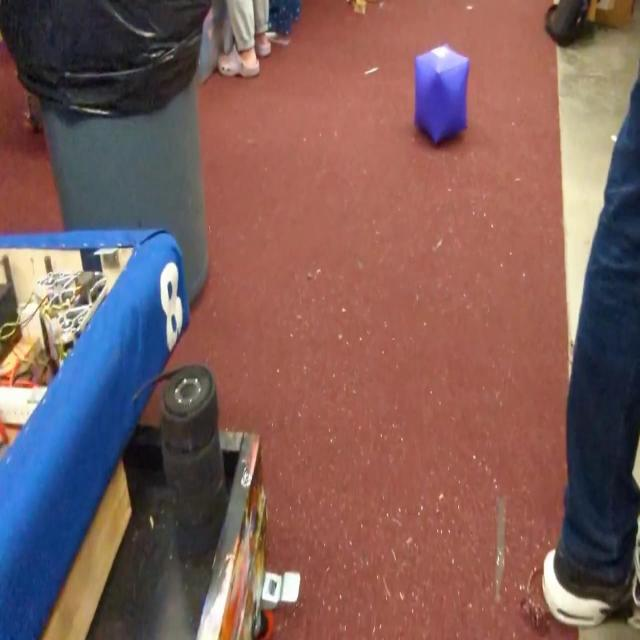frc_cube: (414, 44, 470, 150)
